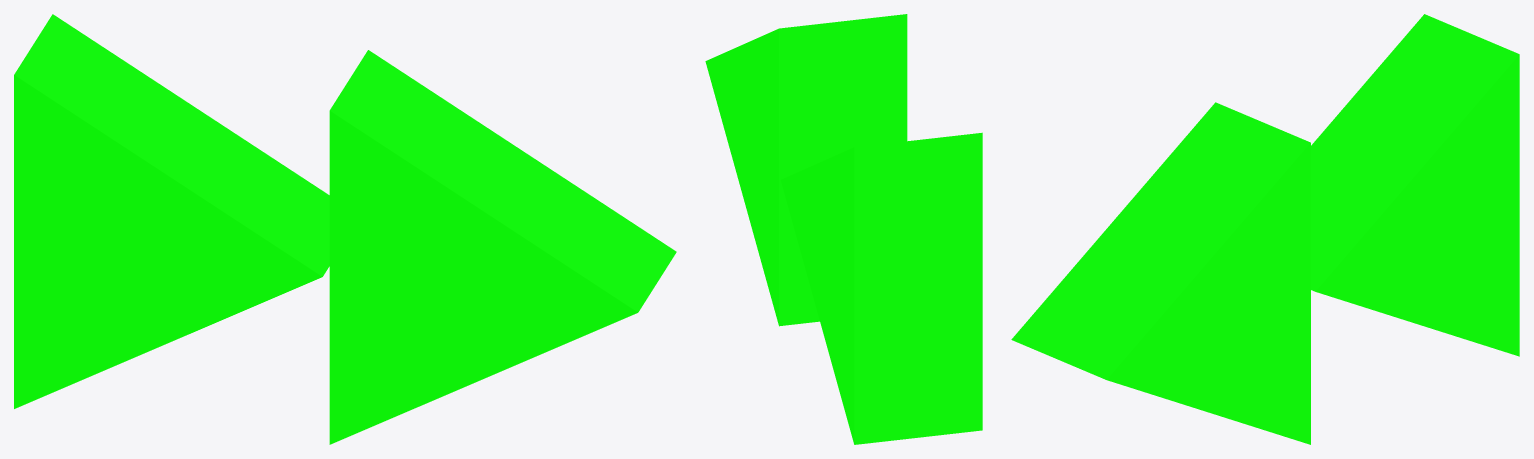
The model's file is MusicPlaybarFastForwardButton.glb.
3 renders of one model, left to right at view 1: azimuth 30°, elevation 25°; view 2: azimuth 150°, elevation 25°; view 3: azimuth 270°, elevation 25°, orthographic. The views are drawn at different scales.
Parts seen in each view (by area): view 1: Polygon.006; view 2: Polygon.006; view 3: Polygon.006.
Boxes of the visible parts, x1=… form: Polygon.006: x1=14, y1=14, x2=676, y2=444; Polygon.006: x1=705, y1=14, x2=982, y2=444; Polygon.006: x1=1011, y1=14, x2=1519, y2=444.
Bounding box in the file's own units: 0.4258 × 0.2793 × 0.4258.
